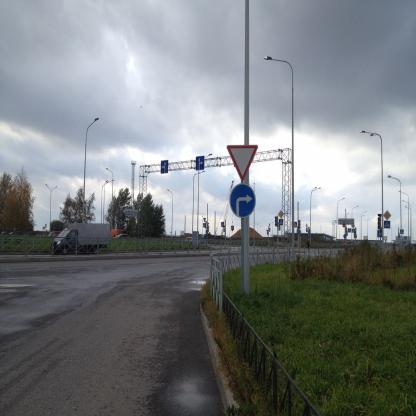road_sign: (228, 145, 258, 180), (230, 184, 255, 217)
